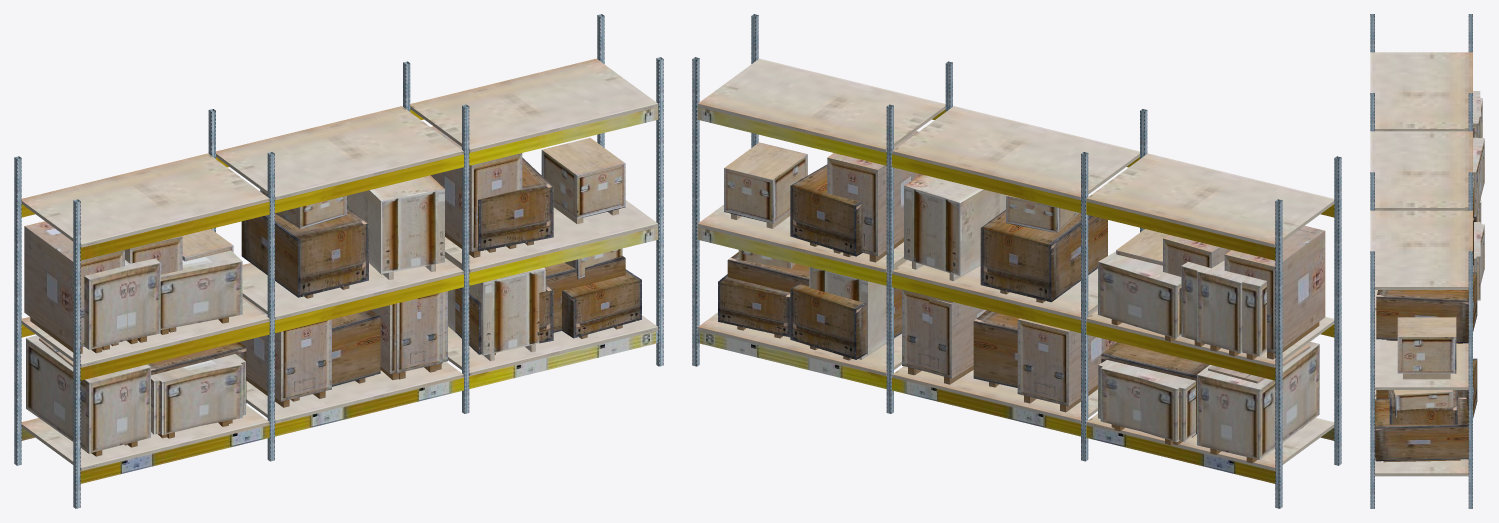
The model's file is lagerregal.fbx.
The picture shows the model from 3 angles, left to right: view 1: azimuth 30°, elevation 25°; view 2: azimuth 150°, elevation 25°; view 3: azimuth 270°, elevation 25°; orthographic projection. The views are drawn at different scales.
Visible parts, largest first — view 1: Mesh, Mesh (2), Mesh (3); view 2: Mesh, Mesh (2), Mesh (3); view 3: Mesh, Mesh (3), Mesh (2).
Part boxes in pixels (<box>): Mesh: <box>14,14,663,508</box>; Mesh (2): <box>24,138,625,456</box>; Mesh (3): <box>39,157,641,453</box>; Mesh: <box>692,14,1341,508</box>; Mesh (2): <box>724,142,1325,463</box>; Mesh (3): <box>718,164,1310,437</box>; Mesh: <box>1370,14,1482,508</box>; Mesh (3): <box>1375,91,1484,462</box>; Mesh (2): <box>1376,198,1484,417</box>.
Size of the model in its own units: 922 by 460 by 186.
1 material, 1 textured.
